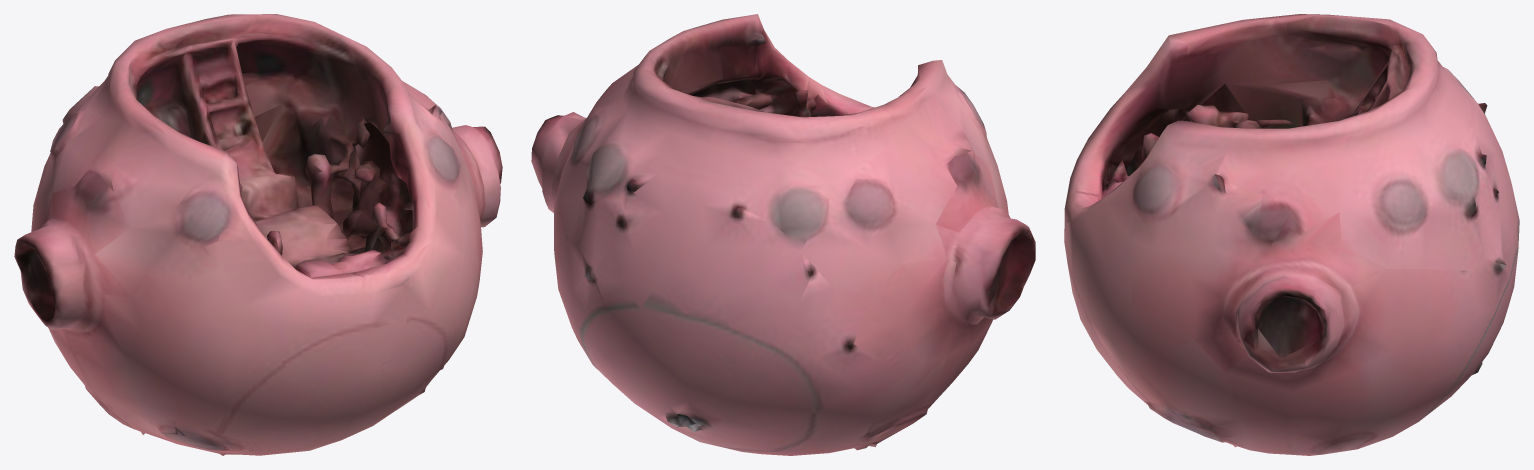
File: cabine_chirimecha.glb
The picture shows the model from 3 angles, left to right: view 1: azimuth 30°, elevation 25°; view 2: azimuth 150°, elevation 25°; view 3: azimuth 270°, elevation 25°; orthographic projection.
Visible parts, largest first — view 1: cabine; view 2: cabine; view 3: cabine.
Boxes of the visible parts, left/top/right/bottom form: cabine: left=14, top=14, right=502, bottom=455; cabine: left=531, top=14, right=1035, bottom=455; cabine: left=1064, top=14, right=1519, bottom=455.
Bounding box in the file's own units: 1.96 × 1.48 × 1.65.
1 material, 1 textured.
